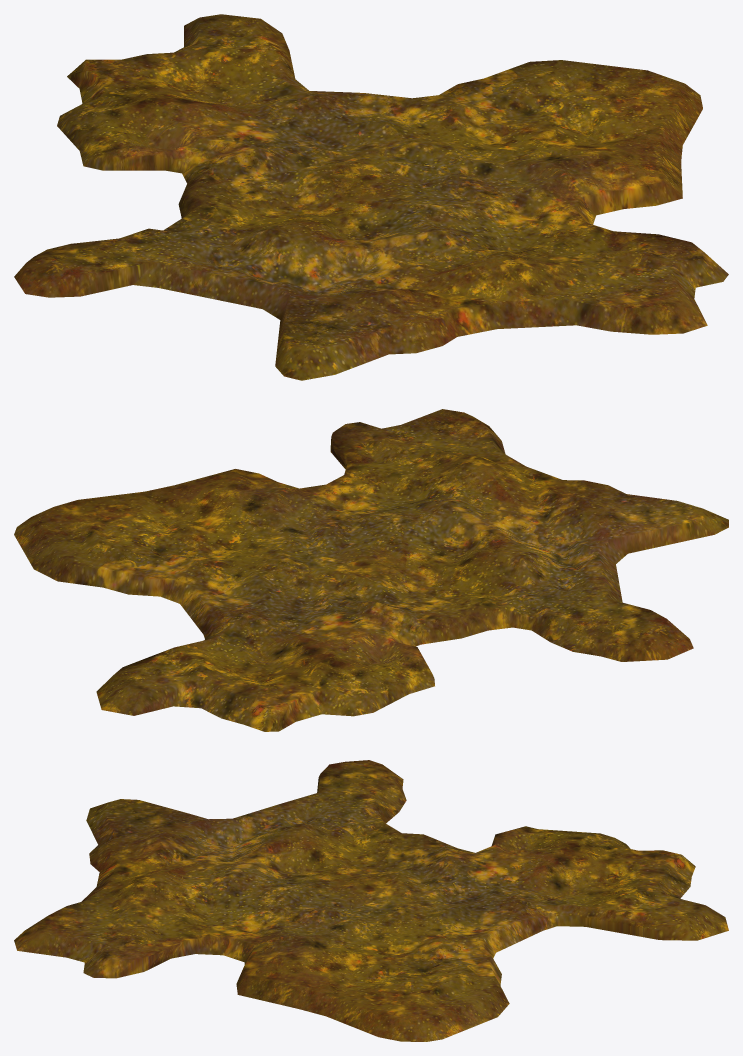
File: vomit_puddle.fbx
The picture shows the model from 3 angles, top to bottom: view 1: azimuth 30°, elevation 25°; view 2: azimuth 150°, elevation 25°; view 3: azimuth 270°, elevation 25°; orthographic projection. The views are drawn at different scales.
Visible parts, largest first — view 1: Plane001; view 2: Plane001; view 3: Plane001.
Part boxes in pixels (left/top/right/bottom): Plane001: left=14, top=14, right=728, bottom=380; Plane001: left=14, top=409, right=728, bottom=731; Plane001: left=14, top=760, right=728, bottom=1041.
Size of the model in its own units: 121 by 5.13 by 131.
